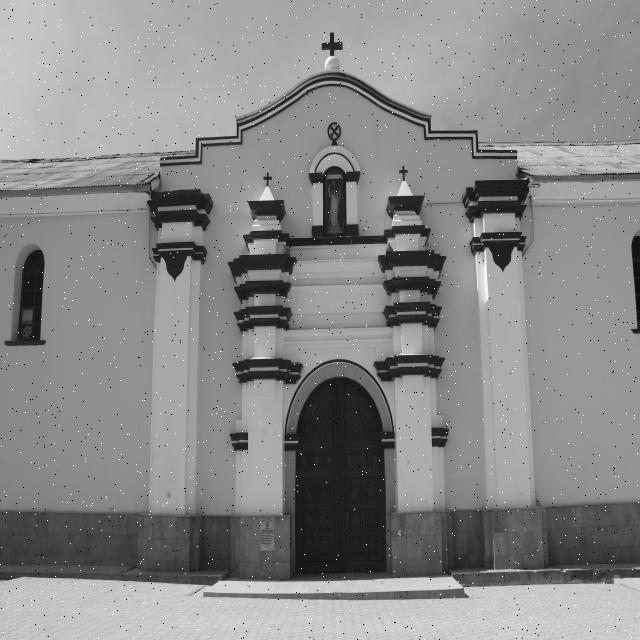PORTADA CENTRAL: (235, 156, 468, 586)
colonial-architecture-: (0, 29, 640, 605)
